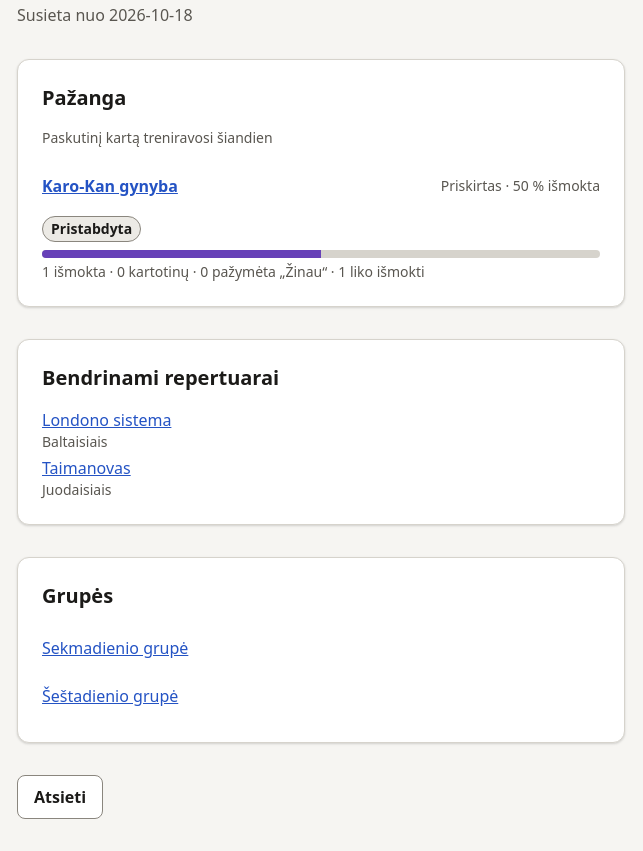
it: PlayerView › shows a refused Unlink
The image size is (643, 851).
(page scrolled)
Click the button "Atsieti".
click(60, 797)  # box [17, 775, 103, 819]
(page scrolled)
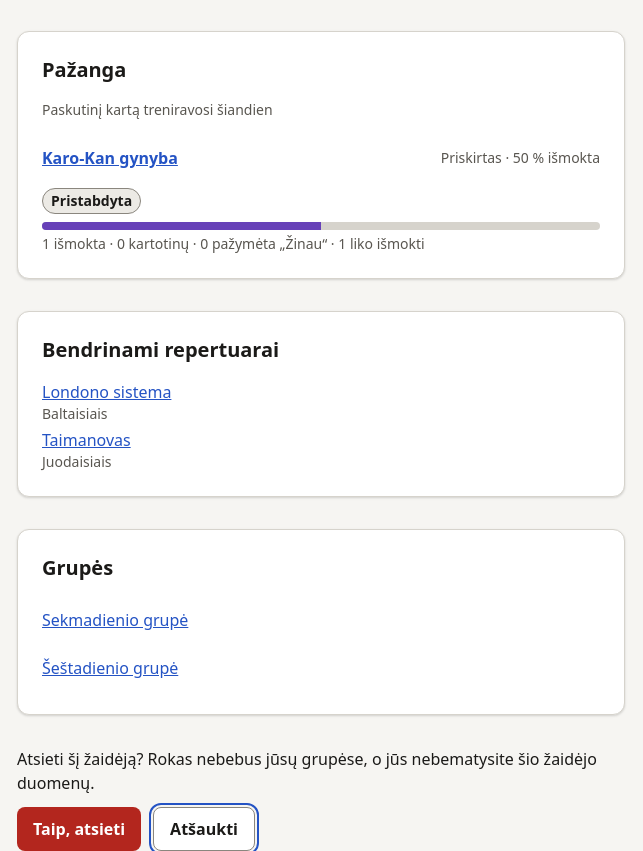
Click the button "Taip, atsieti".
click(79, 829)  # box [17, 807, 141, 850]
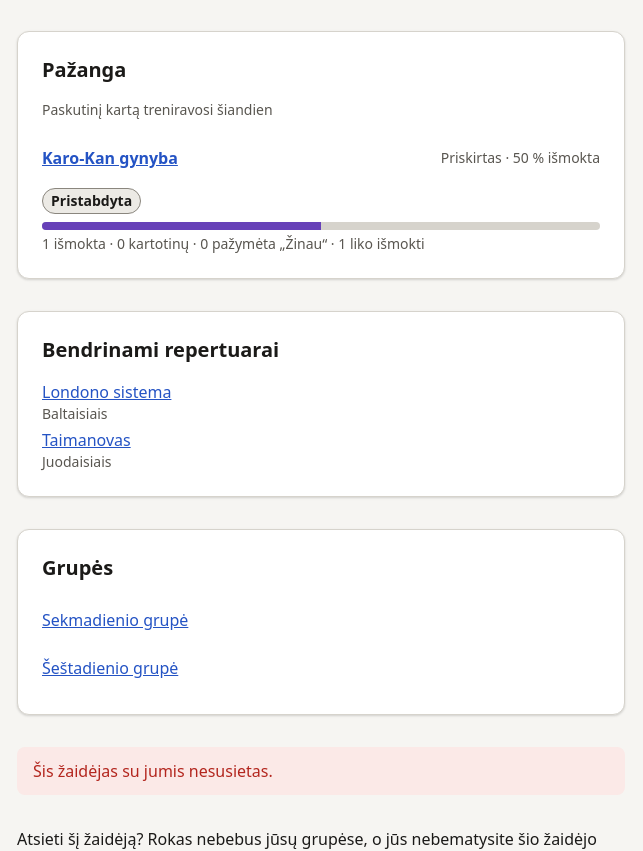
expect the message reads "Šis žaidėjas su jumis nesusietas.": met, box [33, 760, 273, 782]
